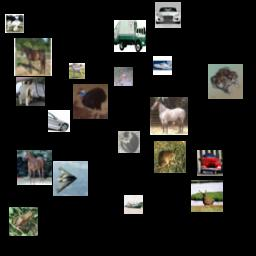airplane: (53, 161, 88, 196)
automobile: (155, 2, 181, 28), (197, 150, 223, 176), (48, 110, 70, 132)
bird: (73, 84, 108, 119)
cat: (16, 77, 45, 106), (118, 131, 140, 153)
deer: (191, 180, 223, 212), (114, 67, 133, 86)
dog: (5, 14, 24, 33)
frog: (208, 64, 243, 99), (154, 141, 186, 173), (9, 207, 38, 236)
ship: (124, 195, 143, 214), (153, 56, 172, 75)
truck: (114, 20, 146, 52)
